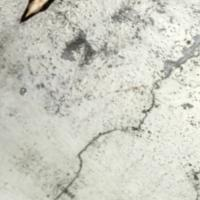crack: (43, 58, 185, 199)
